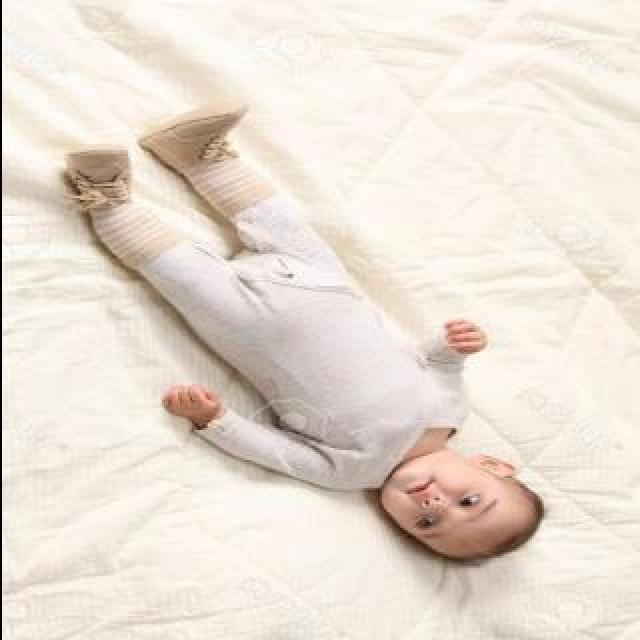baby: (59, 99, 539, 563)
